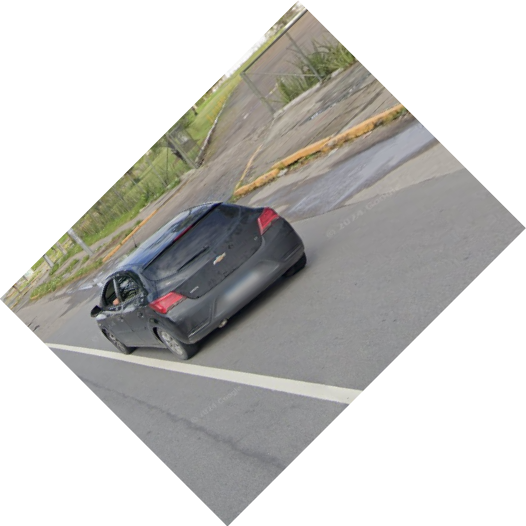car: (88, 198, 318, 363)
